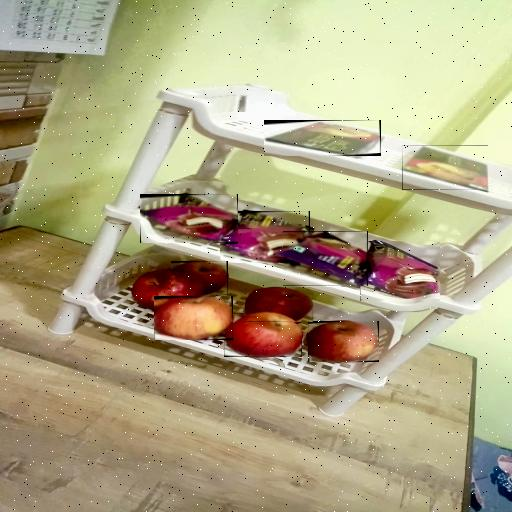Apple: (154, 296, 233, 340), (224, 313, 302, 357), (308, 321, 379, 362), (245, 288, 313, 322), (171, 261, 228, 295)
Choco Fills: (264, 120, 381, 156), (402, 145, 488, 190)
Choco Pie: (140, 194, 238, 243), (360, 242, 440, 302), (220, 211, 310, 263), (283, 232, 367, 286)
